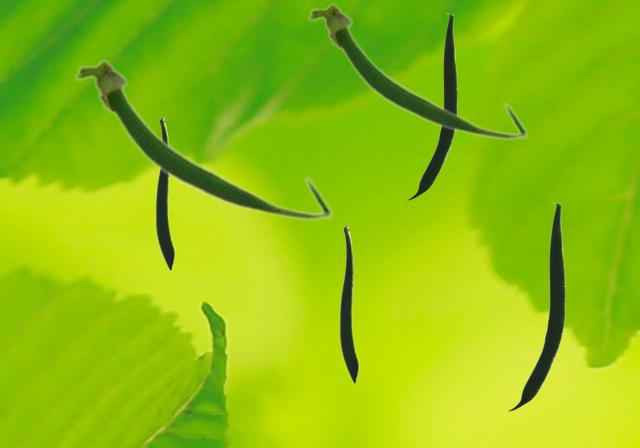french_bean: (73, 57, 333, 221), (306, 1, 528, 140), (507, 202, 564, 410), (406, 13, 456, 199), (339, 224, 358, 383), (155, 116, 174, 270)
